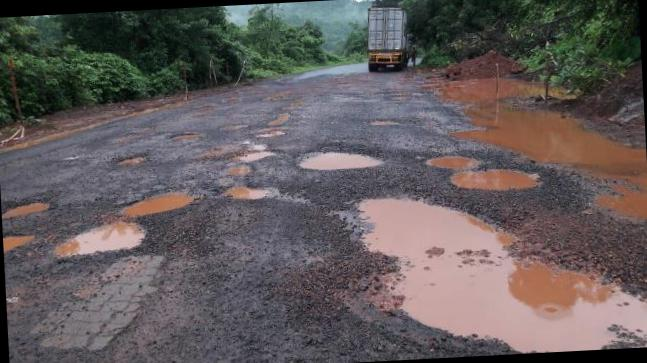pothole: (352, 179, 647, 361), (47, 213, 162, 266), (289, 140, 395, 180), (444, 162, 542, 195), (111, 184, 204, 216), (0, 192, 63, 227), (2, 225, 40, 270), (420, 147, 485, 171), (223, 180, 278, 202), (110, 148, 150, 174), (218, 148, 275, 164), (213, 160, 259, 176), (162, 128, 202, 144), (366, 115, 402, 130), (252, 125, 288, 140), (217, 120, 251, 135)
